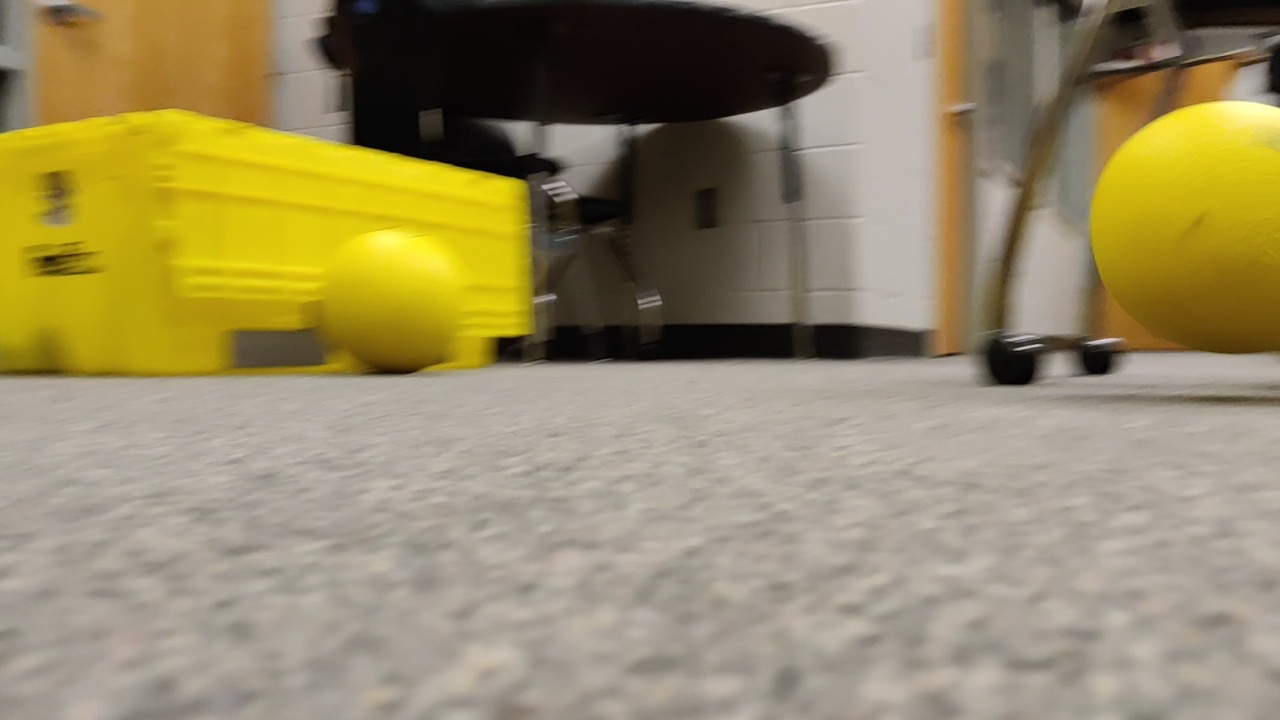Ball: (1094, 90, 1280, 356), (323, 224, 454, 370)
